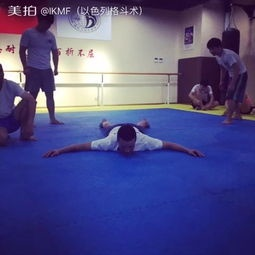fall: (42, 112, 207, 160)
